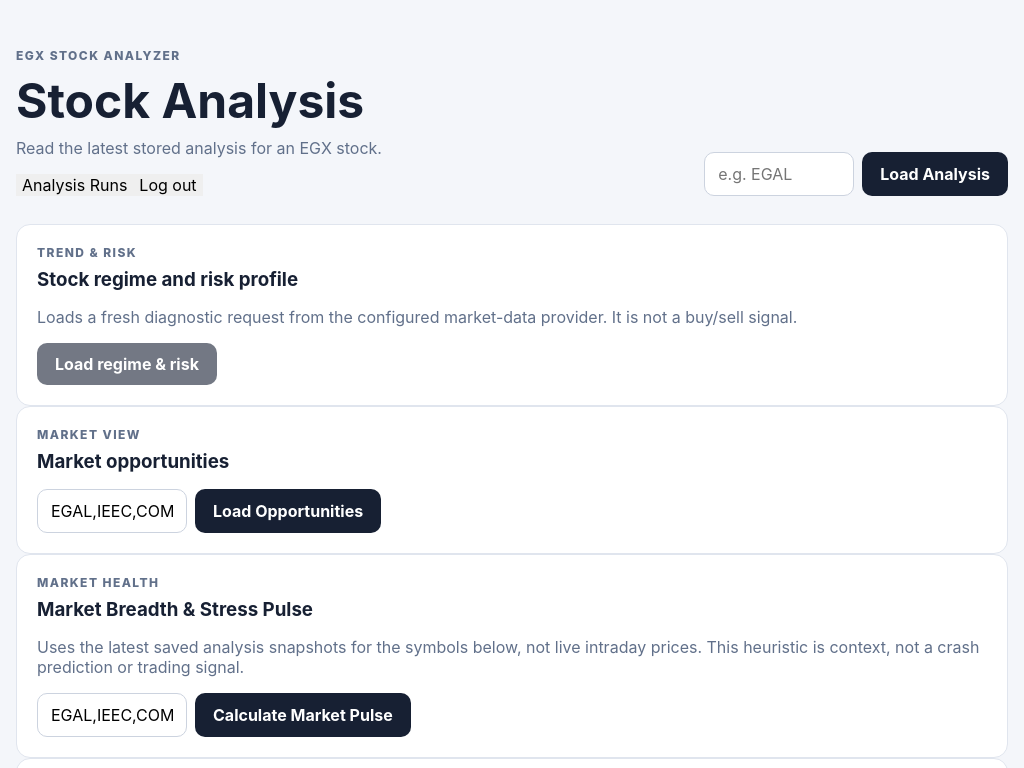
it: Dashboard › loads and renders historical analysis snapshots
Step 1. Type "egal" into the field named "Stock Symbol" → (779,174), box x1=704 y1=152 x2=854 y2=196
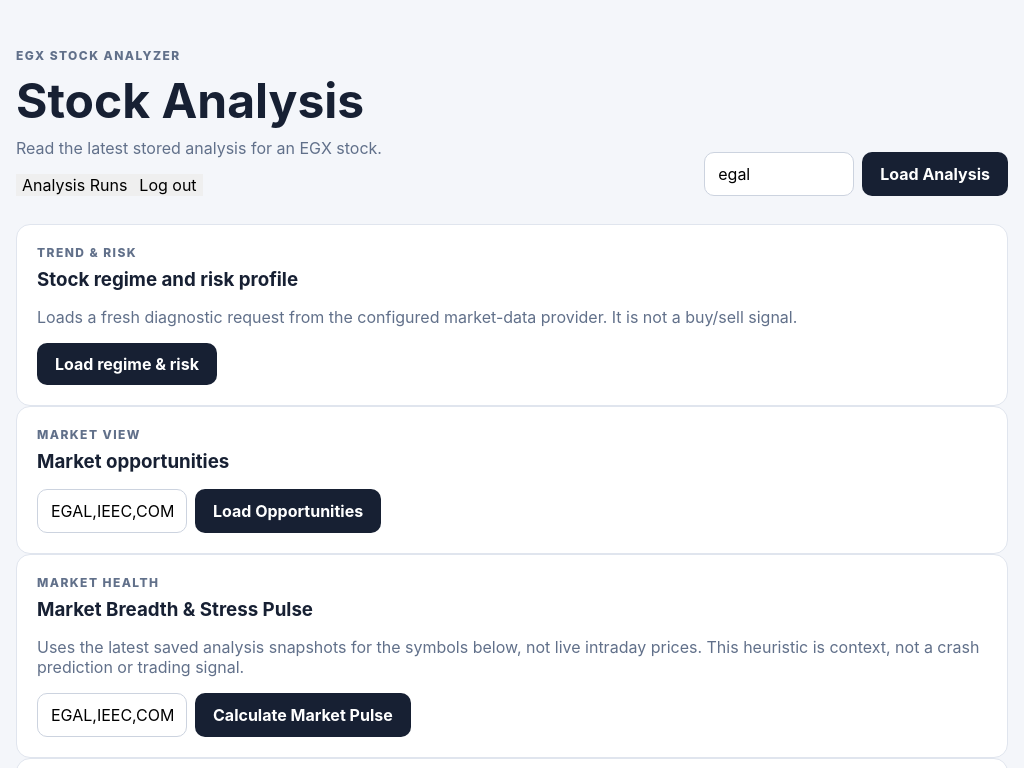
Step 2. Click the button "Load Analysis" → (935,174), box x1=862 y1=152 x2=1008 y2=196
(page scrolled)
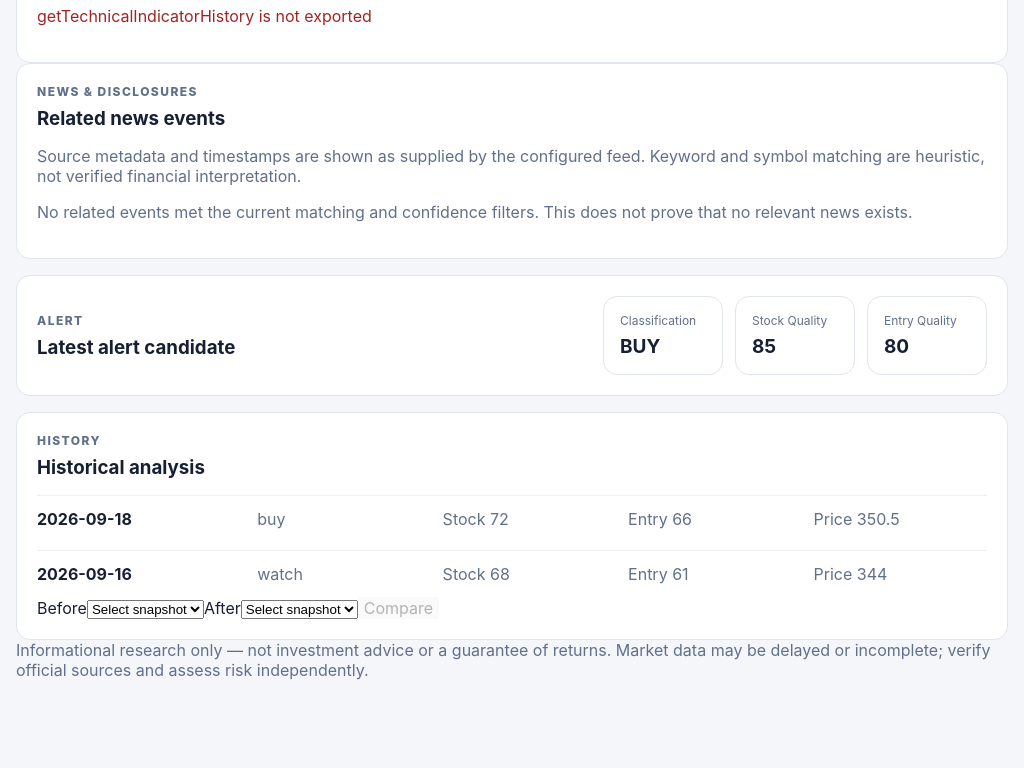
Expected: the text "Stock 72" is shown, x1=443 y1=509 x2=509 y2=529
Expected: the text "Entry 61" is shown, x1=628 y1=564 x2=689 y2=584
